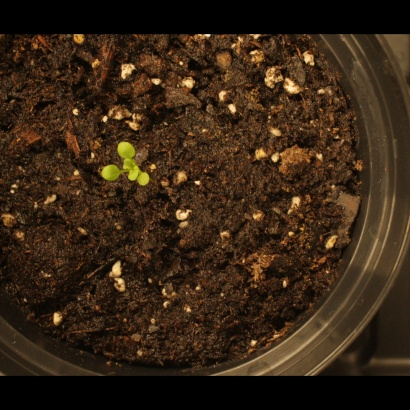leaf: (116, 136, 139, 159), (99, 161, 122, 184), (137, 169, 160, 192), (122, 165, 145, 188), (118, 151, 141, 174)
